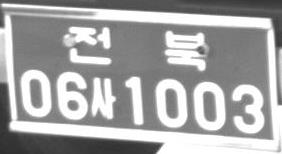0: (154, 77, 188, 129), (192, 80, 226, 131), (19, 68, 52, 118)
1: (121, 75, 149, 125)
3: (231, 82, 265, 134)
6: (57, 70, 88, 120)
사: (89, 76, 116, 119)
전북_D: (68, 25, 207, 72)
